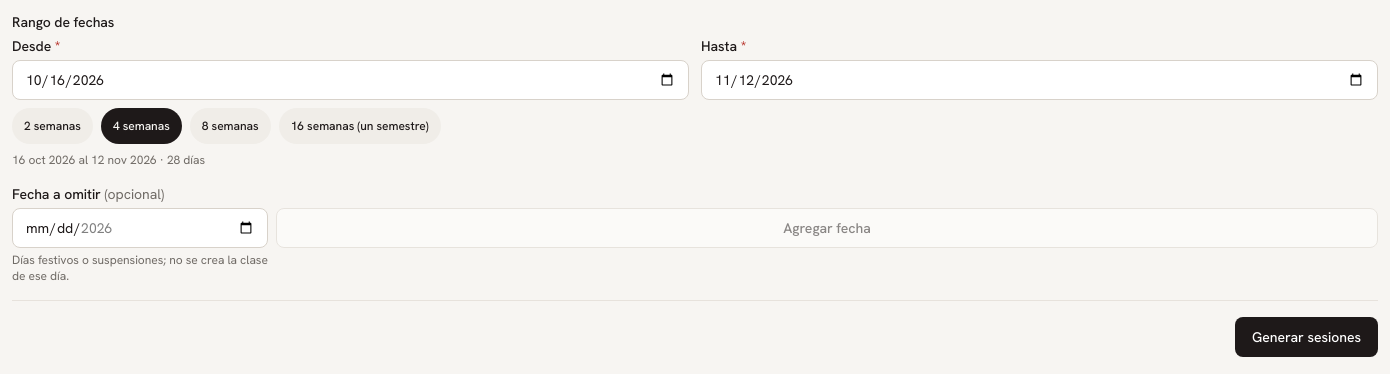
Test: GenerarSesiones › un atajo de rango fija el final a partir del inicio elegido
Type "2026-09-14" into the date field labelled "Desde *" at (350, 80), box [12, 60, 689, 100]
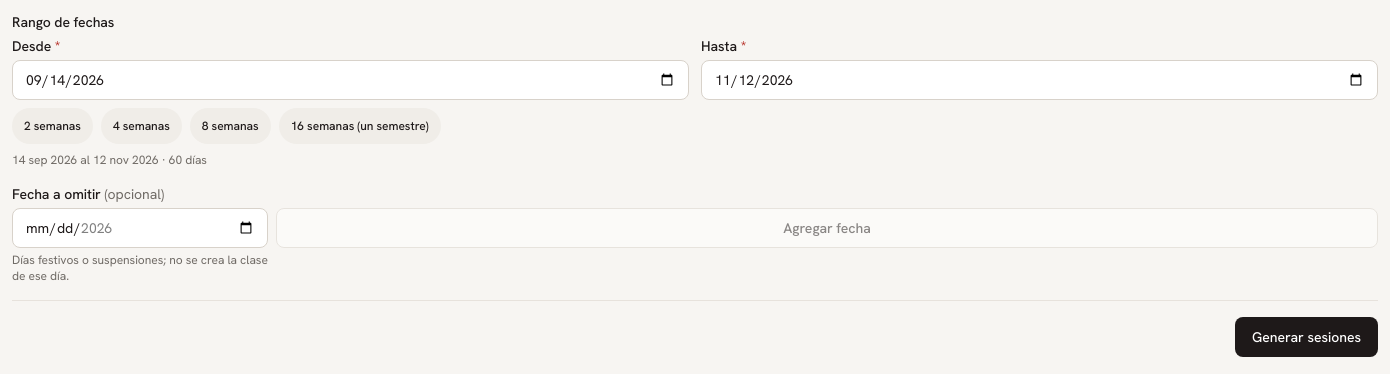
Click the button "8 semanas" at (230, 126), box [190, 108, 271, 144]
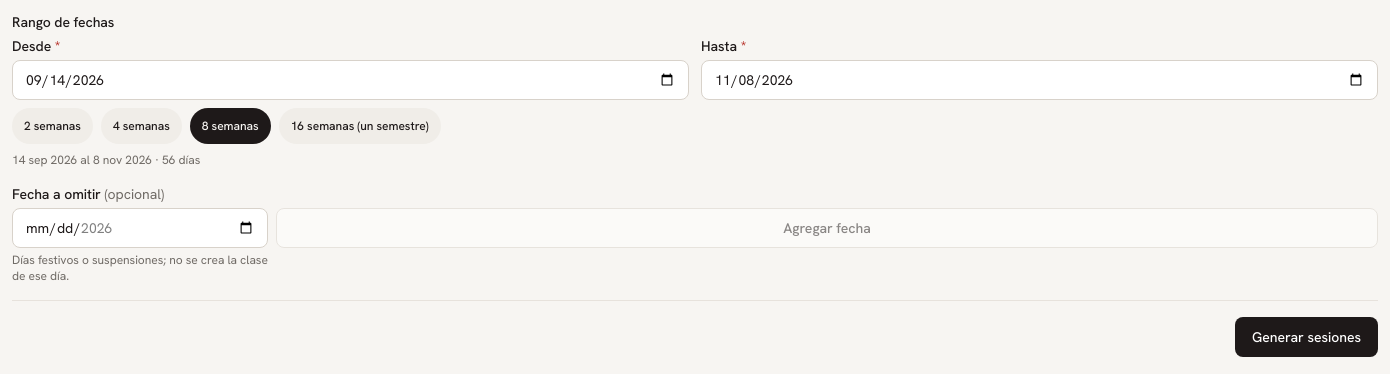
Expected: the date field labelled "Hasta *" holds "2026-11-08", [701, 60, 1378, 100]
